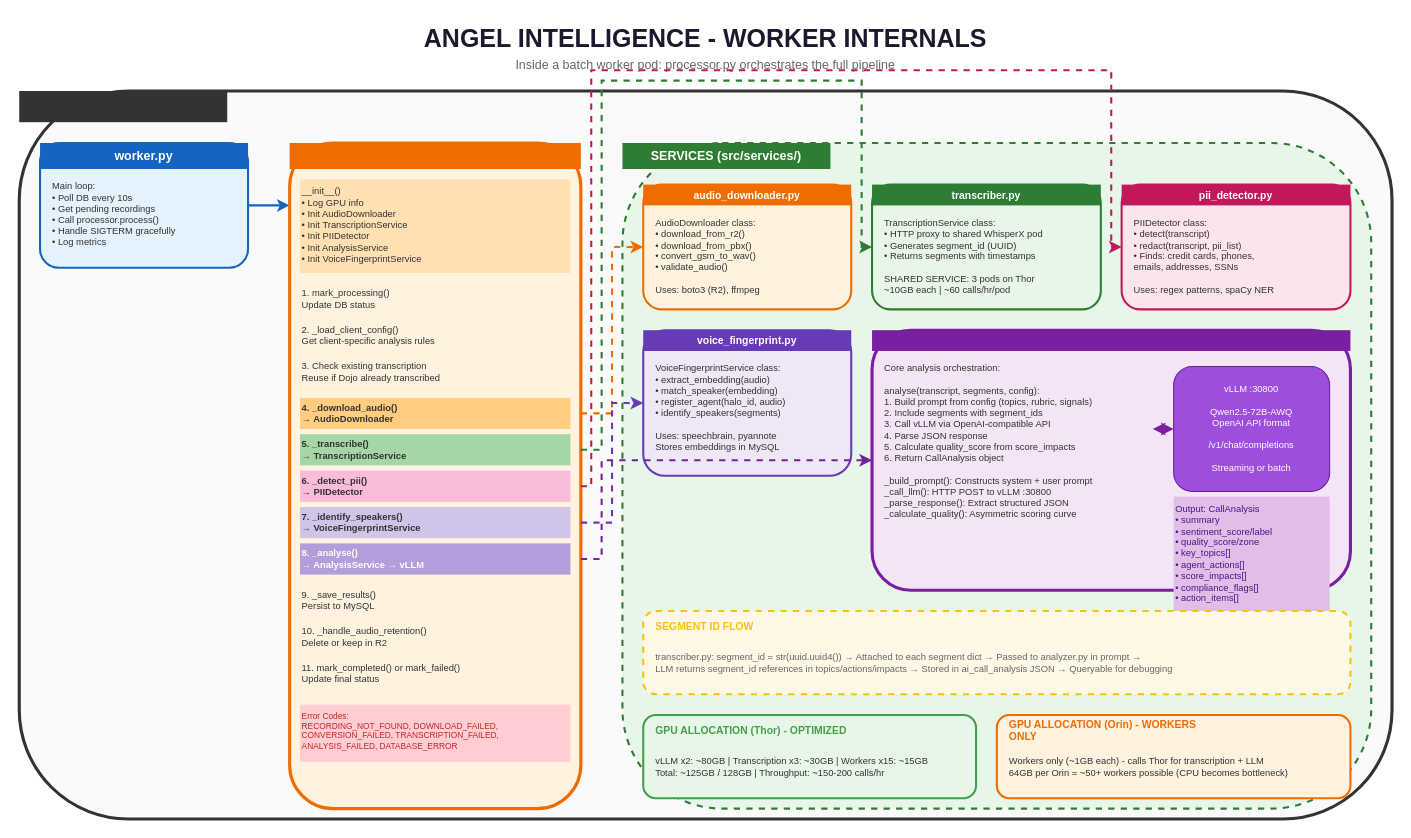
This 1411x838 diagram has some shape labels left out. The shapes that lost their labels are listed below. From the top down, each one's box as (x1, y1, x2, y2) in pixels, then its label:
(19, 90, 227, 122): BATCH WORKER POD
(289, 142, 580, 168): processor.py (CallProcessor)
(872, 330, 1350, 350): analyzer.py (AnalysisService)
